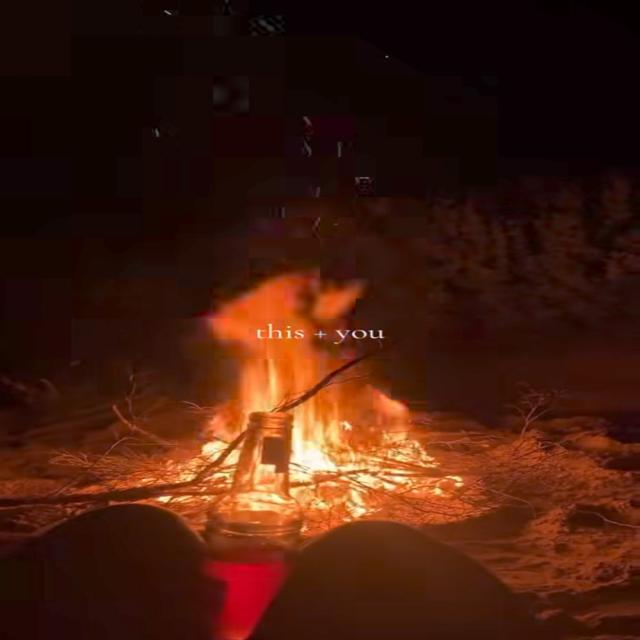fire: (160, 265, 462, 520)
